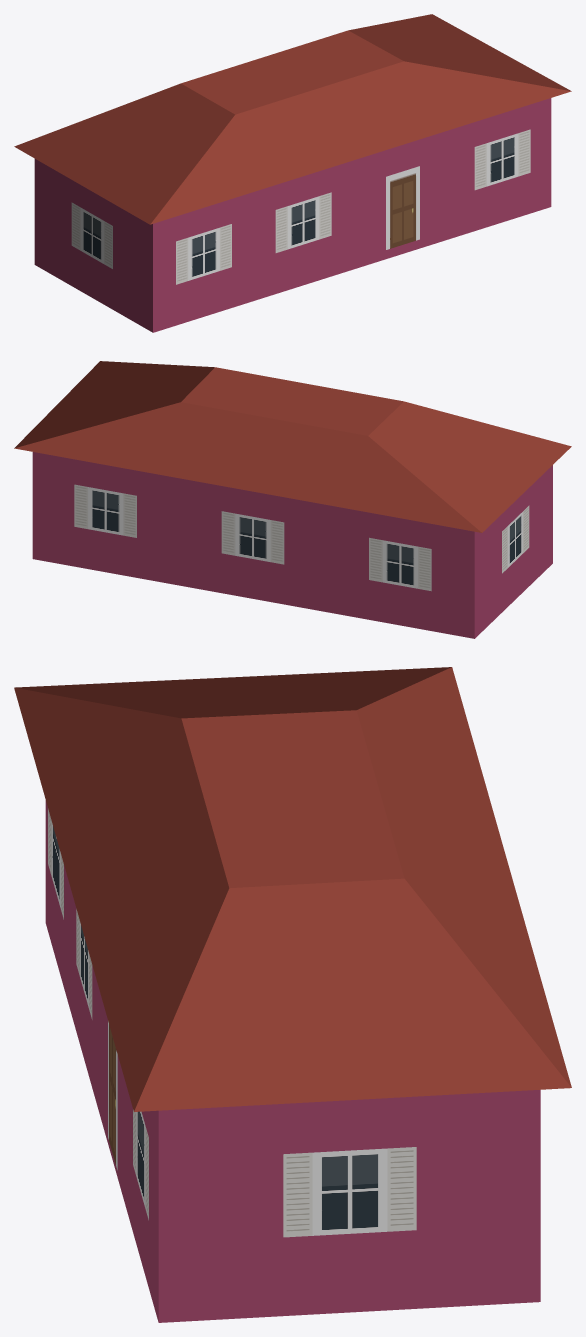
File: msb_sannicolas_17_25.glb
3 views of the same model, one above another, from view 1: azimuth 30°, elevation 25°; view 2: azimuth 150°, elevation 25°; view 3: azimuth 270°, elevation 25° (orthographic). The views are drawn at different scales.
Visible parts, largest first — view 1: msb_sannicolas_17_25_lod0; view 2: msb_sannicolas_17_25_lod0; view 3: msb_sannicolas_17_25_lod0.
Part boxes in pixels (left/top/right/bottom): msb_sannicolas_17_25_lod0: left=14, top=14, right=571, bottom=332; msb_sannicolas_17_25_lod0: left=14, top=361, right=571, bottom=638; msb_sannicolas_17_25_lod0: left=14, top=667, right=571, bottom=1322.
Size of what is drawn, in the model's own units: 14.89 by 4.9 by 7.89.
Materials: 2 (1 with a texture image).
